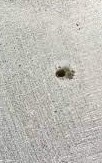Spalling: (54, 66, 76, 80)
